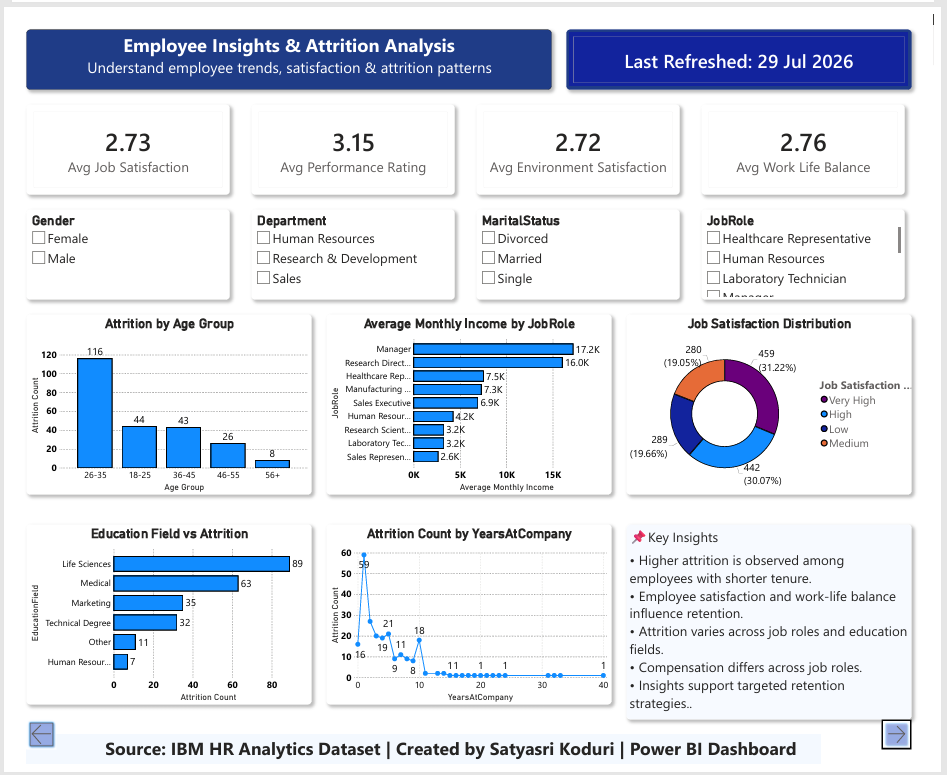

Layout of this report page (visuals, bound fields, positions):
{"tool":"powerbi","page":{"name":"Page 2","canvas":[2950,2400],"ordinal":1},"visuals":[{"type":"textbox","box":[48,48,1680,192],"z":0},{"type":"slicer","fields":{"Values":["HR-Analytics-dataset.Department"]},"box":[768,624,650,288],"z":1000},{"type":"slicer","fields":{"Values":["HR-Analytics-dataset.JobRole"]},"box":[2208,624,650,288],"z":2000},{"type":"slicer","fields":{"Values":["HR-Analytics-dataset.Gender"]},"box":[48,624,650,288],"z":3000},{"type":"slicer","fields":{"Values":["HR-Analytics-dataset.MaritalStatus"]},"box":[1488,624,650,288],"z":4000},{"type":"cardVisual","fields":{"Data":["HR-Analytics-dataset.Avg Job Satisfaction"]},"box":[48,288,650,288],"z":5000},{"type":"cardVisual","fields":{"Data":["HR-Analytics-dataset.Avg Environment Satisfaction"]},"box":[1488,288,650,288],"z":6000},{"type":"cardVisual","fields":{"Data":["HR-Analytics-dataset.Avg Work Life Balance"]},"box":[2208,288,650,288],"z":7000},{"type":"cardVisual","fields":{"Data":["HR-Analytics-dataset.Avg Performance Rating"]},"box":[768,288,650,288],"z":8000},{"type":"clusteredColumnChart","title":"Attrition by Age Group","fields":{"Category":["HR-Analytics-dataset.Age Group"],"Y":["HR-Analytics-dataset.Attrition Count"]},"box":[48,960,912,576],"z":9000},{"type":"clusteredBarChart","fields":{"Category":["HR-Analytics-dataset.JobRole"],"Y":["HR-Analytics-dataset.Average Monthly Income"]},"box":[1008,960,912,576],"z":10000},{"type":"donutChart","title":"Job Satisfaction Distribution","fields":{"Category":["HR-Analytics-dataset.Job Satisfaction Level"],"Y":["CountNonNull(HR-Analytics-dataset.EmployeeCount)"]},"box":[1968,960,912,576],"z":11000},{"type":"clusteredBarChart","title":"Education Field vs Attrition","fields":{"Category":["HR-Analytics-dataset.EducationField"],"Y":["HR-Analytics-dataset.Attrition Count"]},"box":[48,1632,912,576],"z":12000},{"type":"lineChart","fields":{"Category":["HR-Analytics-dataset.YearsAtCompany"],"Y":["HR-Analytics-dataset.Attrition Count"]},"box":[1008,1632,912,576],"z":13000},{"type":"textbox","box":[1968,1632,912,624],"z":14000},{"type":"textbox","box":[48,2304,2544,96],"z":15000},{"type":"cardVisual","fields":{"Data":["HR-Analytics-dataset.Last Refresh"]},"box":[1776,48,1104,192],"z":16000},{"type":"actionButton","box":[2784,2256,96,96],"z":17000},{"type":"actionButton","box":[48,2256,96,96],"z":17002}]}

Visuals, with their boxes in screenshot pixels (x1, y1, x2, y2), scaled from the page's 2950x2400 canvas onto the 947x775 screenshot:
textbox: bbox(15, 16, 555, 78)
slicer - HR-Analytics-dataset.Department: bbox(247, 202, 455, 294)
slicer - HR-Analytics-dataset.JobRole: bbox(709, 202, 917, 294)
slicer - HR-Analytics-dataset.Gender: bbox(15, 202, 224, 294)
slicer - HR-Analytics-dataset.MaritalStatus: bbox(478, 202, 686, 294)
cardVisual - HR-Analytics-dataset.Avg Job Satisfaction: bbox(15, 93, 224, 186)
cardVisual - HR-Analytics-dataset.Avg Environment Satisfaction: bbox(478, 93, 686, 186)
cardVisual - HR-Analytics-dataset.Avg Work Life Balance: bbox(709, 93, 917, 186)
cardVisual - HR-Analytics-dataset.Avg Performance Rating: bbox(247, 93, 455, 186)
"Attrition by Age Group" clusteredColumnChart: bbox(15, 310, 308, 496)
clusteredBarChart - HR-Analytics-dataset.JobRole x HR-Analytics-dataset.Average Monthly Income: bbox(324, 310, 616, 496)
"Job Satisfaction Distribution" donutChart: bbox(632, 310, 925, 496)
"Education Field vs Attrition" clusteredBarChart: bbox(15, 527, 308, 713)
lineChart - HR-Analytics-dataset.YearsAtCompany x HR-Analytics-dataset.Attrition Count: bbox(324, 527, 616, 713)
textbox: bbox(632, 527, 925, 728)
textbox: bbox(15, 744, 832, 774)
cardVisual - HR-Analytics-dataset.Last Refresh: bbox(570, 16, 925, 78)
actionButton: bbox(894, 728, 925, 760)
actionButton: bbox(15, 728, 46, 760)
